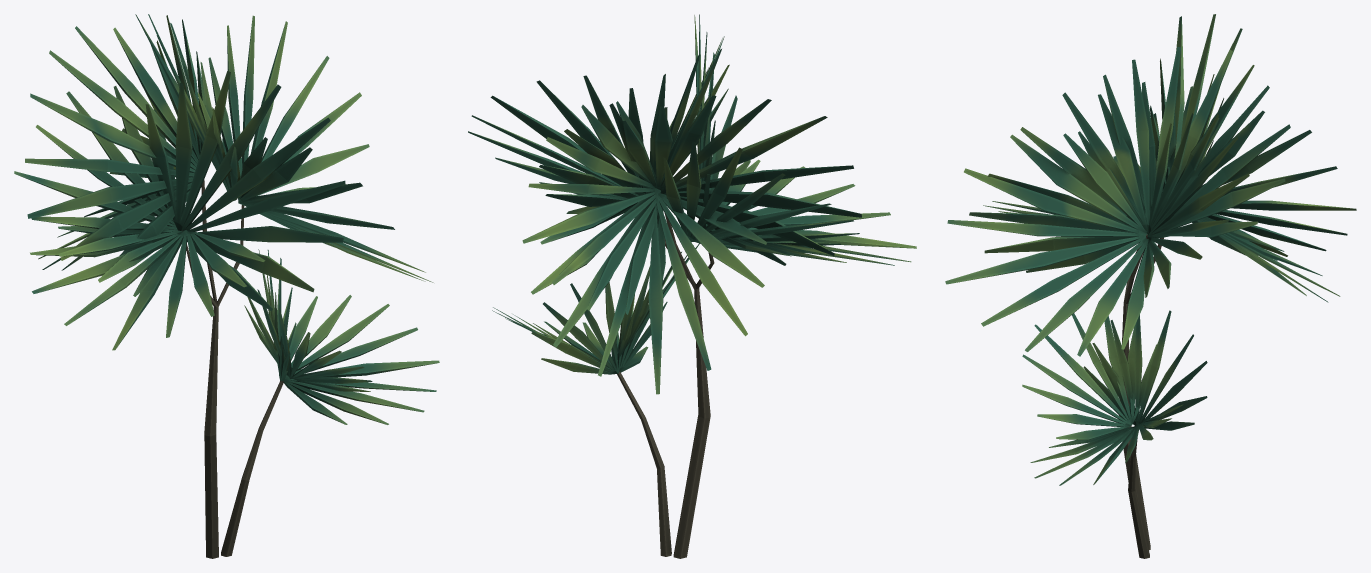
File: Lady palm tree.glb
3 renders of one model, left to right at view 1: azimuth 30°, elevation 25°; view 2: azimuth 150°, elevation 25°; view 3: azimuth 270°, elevation 25°, orthographic. The views are drawn at different scales.
Visible parts, largest first — view 1: polySurface16; view 2: polySurface16; view 3: polySurface16.
Boxes of the visible parts, x1,y1,x2,y2 form: polySurface16: [14, 14, 439, 558]; polySurface16: [468, 14, 916, 558]; polySurface16: [945, 14, 1356, 558].
Bounding box in the file's own units: 13.02 × 16.28 × 12.49.
1 material, 1 textured.
